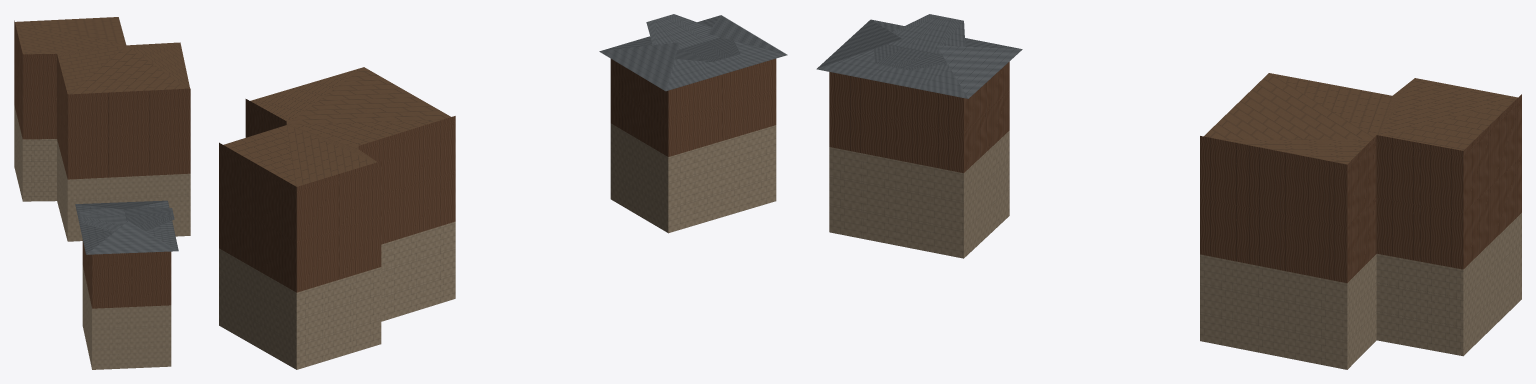
The model's file is bld_c7_39_525.gltf.
3 views of the same model, side by side, from view 1: azimuth 30°, elevation 25°; view 2: azimuth 150°, elevation 25°; view 3: azimuth 270°, elevation 25° (orthographic). The views are drawn at different scales.
Visible parts, largest first — view 1: bld_c7_39_525; view 2: bld_c7_39_525; view 3: bld_c7_39_525.
Boxes of the visible parts, <box> form: bld_c7_39_525: <box>14,17,190,369</box>; bld_c7_39_525: <box>219,14,787,369</box>; bld_c7_39_525: <box>816,14,1521,369</box>.
Size of the model in its own units: 22.78 by 12.08 by 37.63.
Materials: 5 (5 with a texture image).
